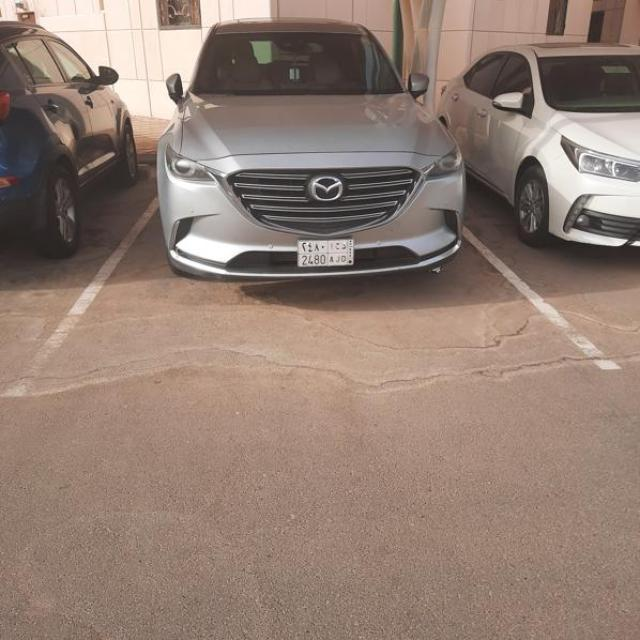license_plate: (297, 240, 355, 266)
